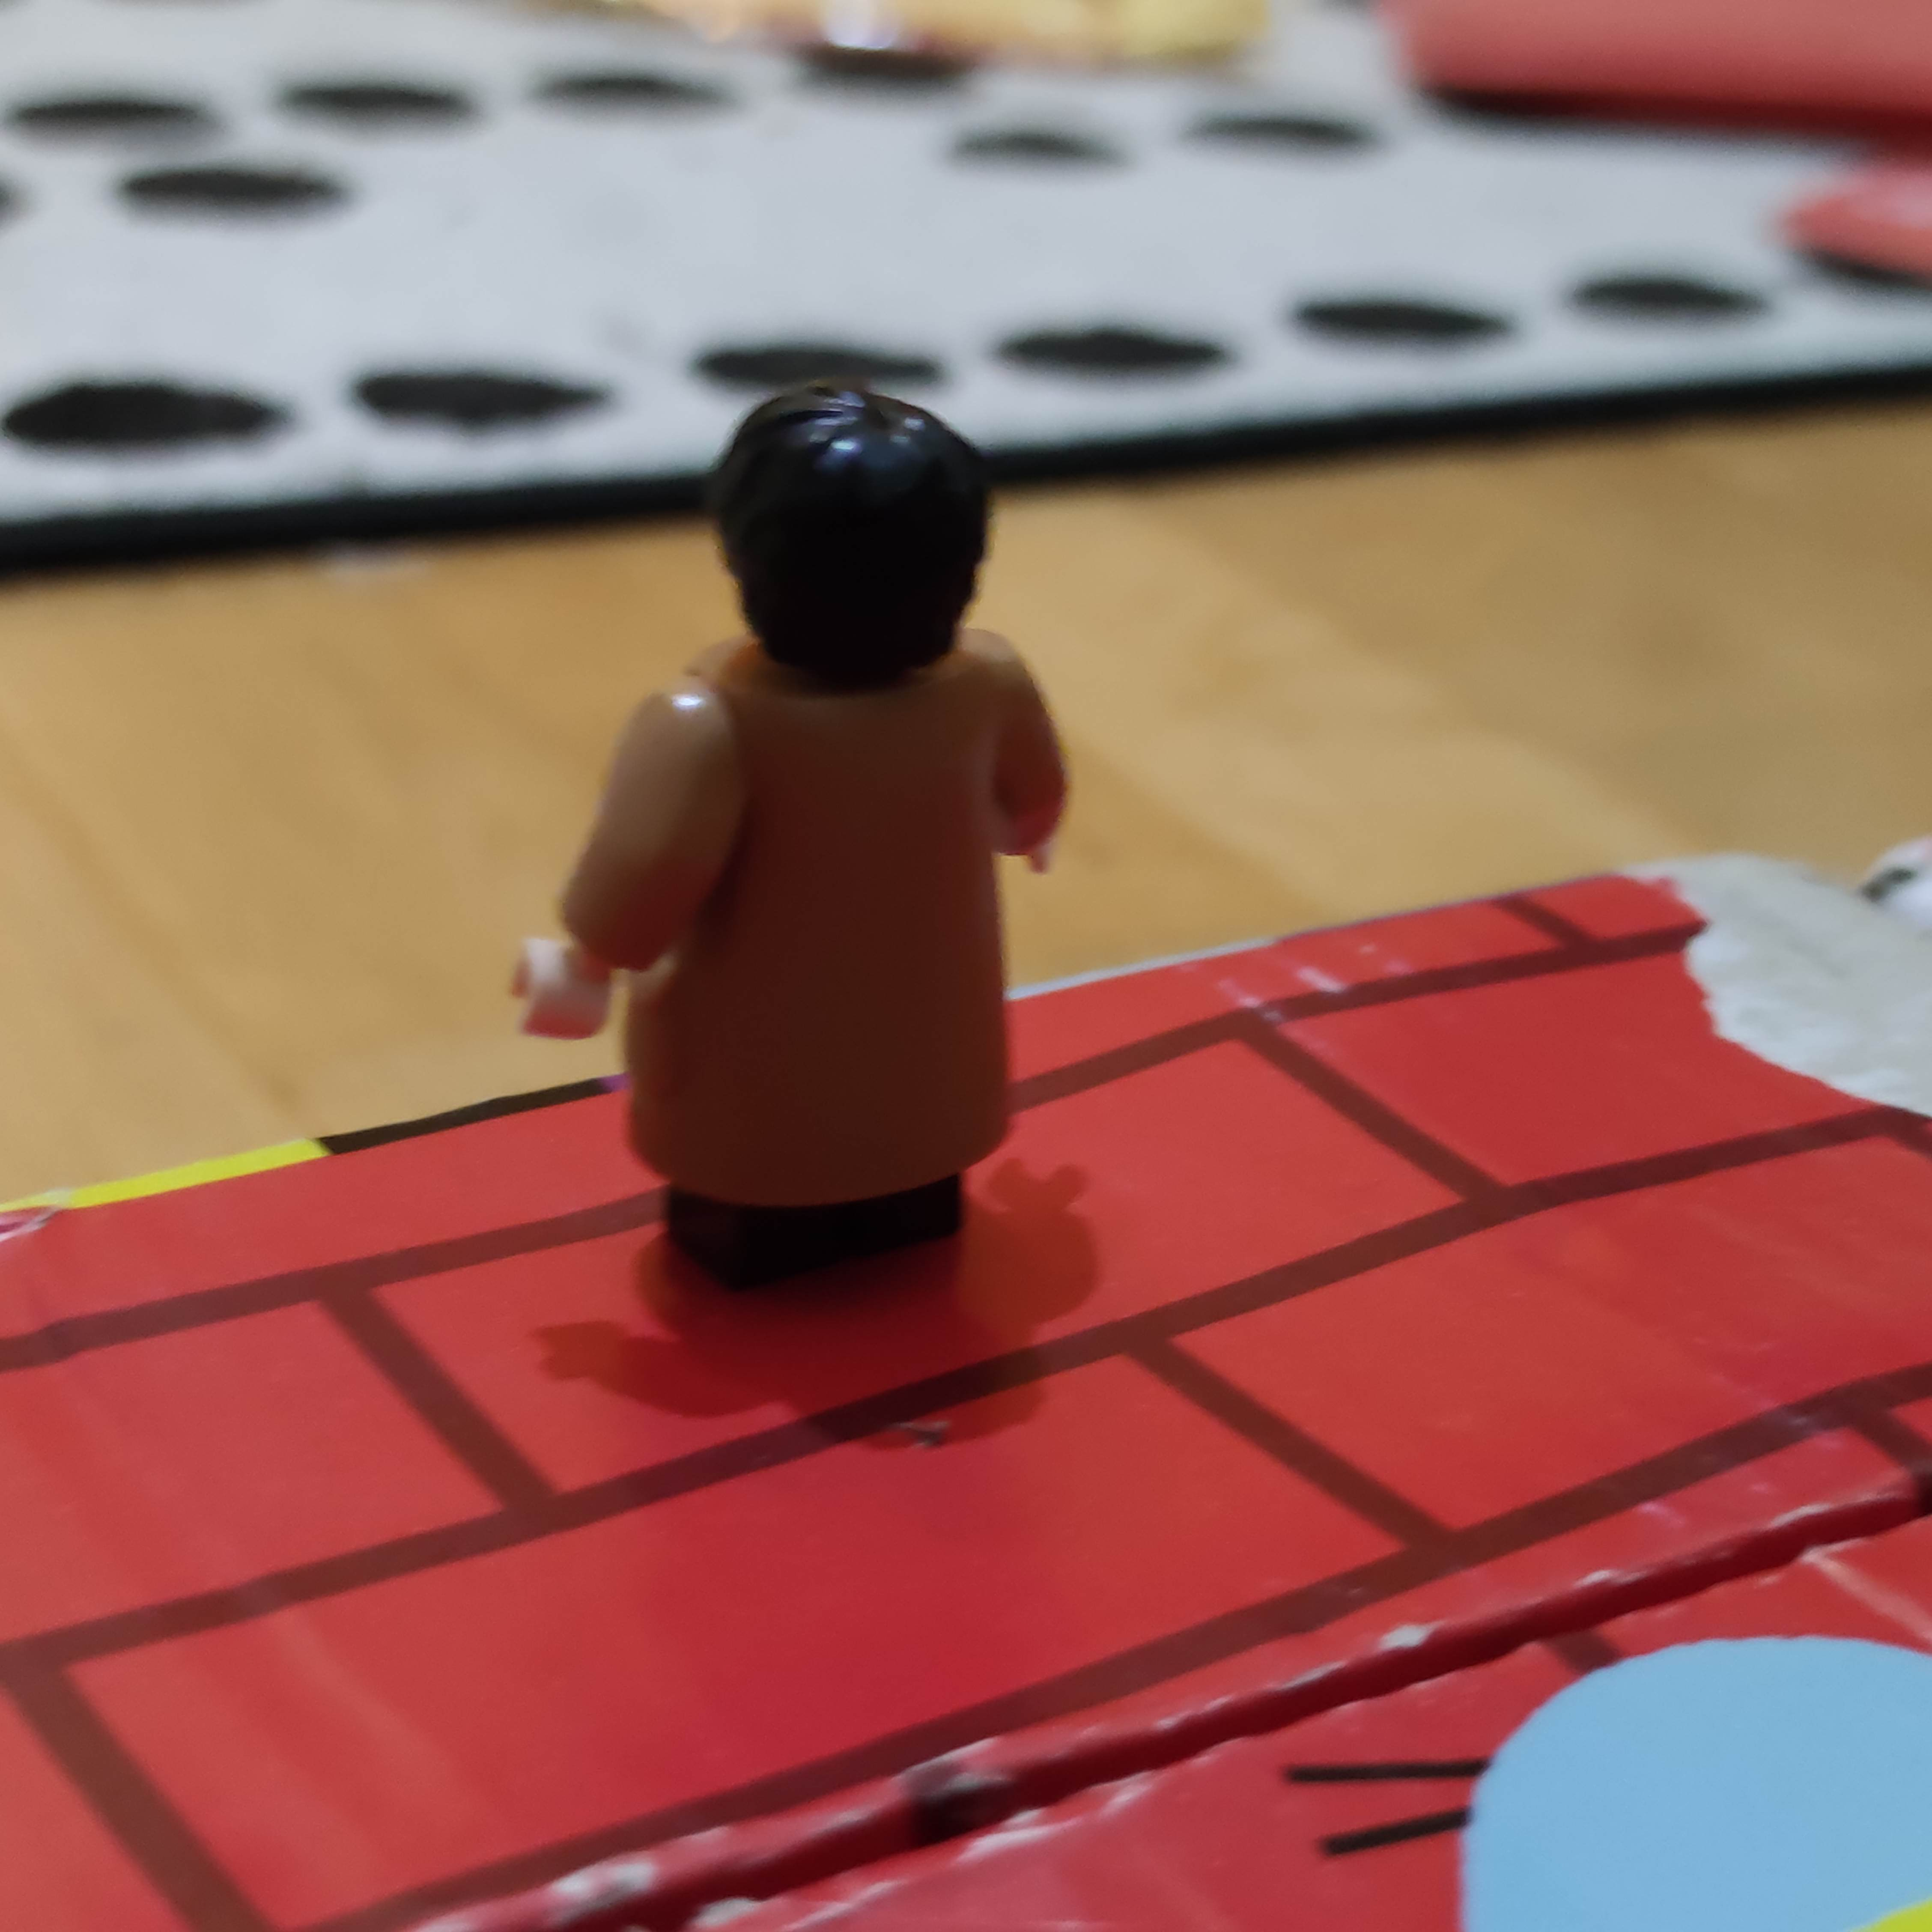lego: (511, 379, 1081, 1302)
